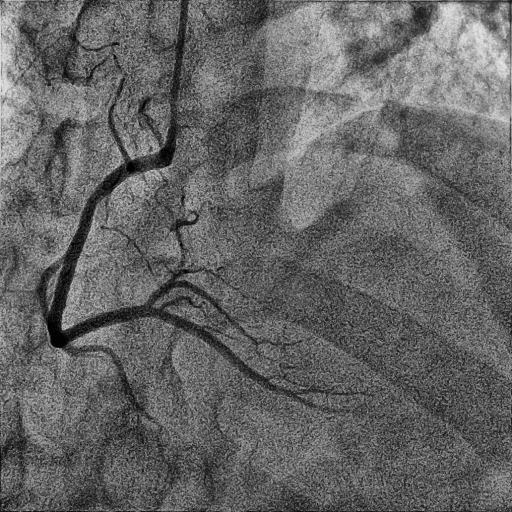pborca: (144, 271, 180, 305)
pda: (148, 307, 350, 413)
rca: (48, 149, 169, 348)
